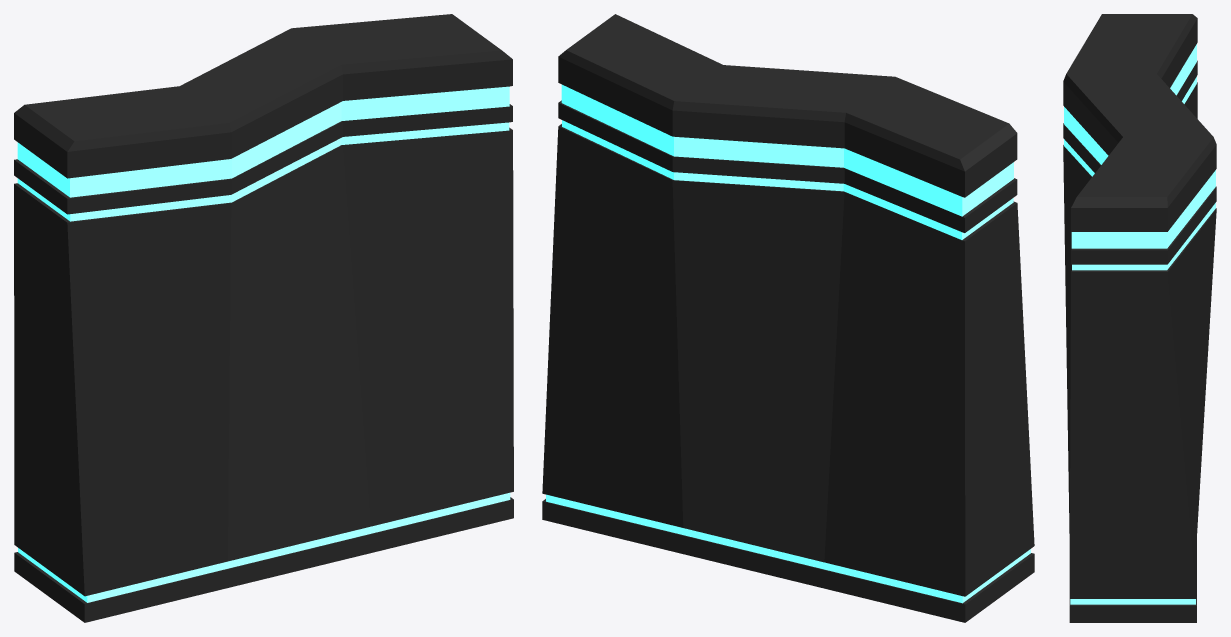
Rendered from High wall distorted_2 2L.fbx.
The picture shows the model from 3 angles, left to right: view 1: azimuth 30°, elevation 25°; view 2: azimuth 150°, elevation 25°; view 3: azimuth 270°, elevation 25°; orthographic projection. The views are drawn at different scales.
Visible parts, largest first — view 1: High Wall Distorted.2 2L; view 2: High Wall Distorted.2 2L; view 3: High Wall Distorted.2 2L.
Boxes of the visible parts, <box> form: High Wall Distorted.2 2L: <box>14,14,513,622</box>; High Wall Distorted.2 2L: <box>542,14,1034,622</box>; High Wall Distorted.2 2L: <box>1063,14,1216,622</box>.
Bounding box in the file's own units: 630 × 215 × 654.
